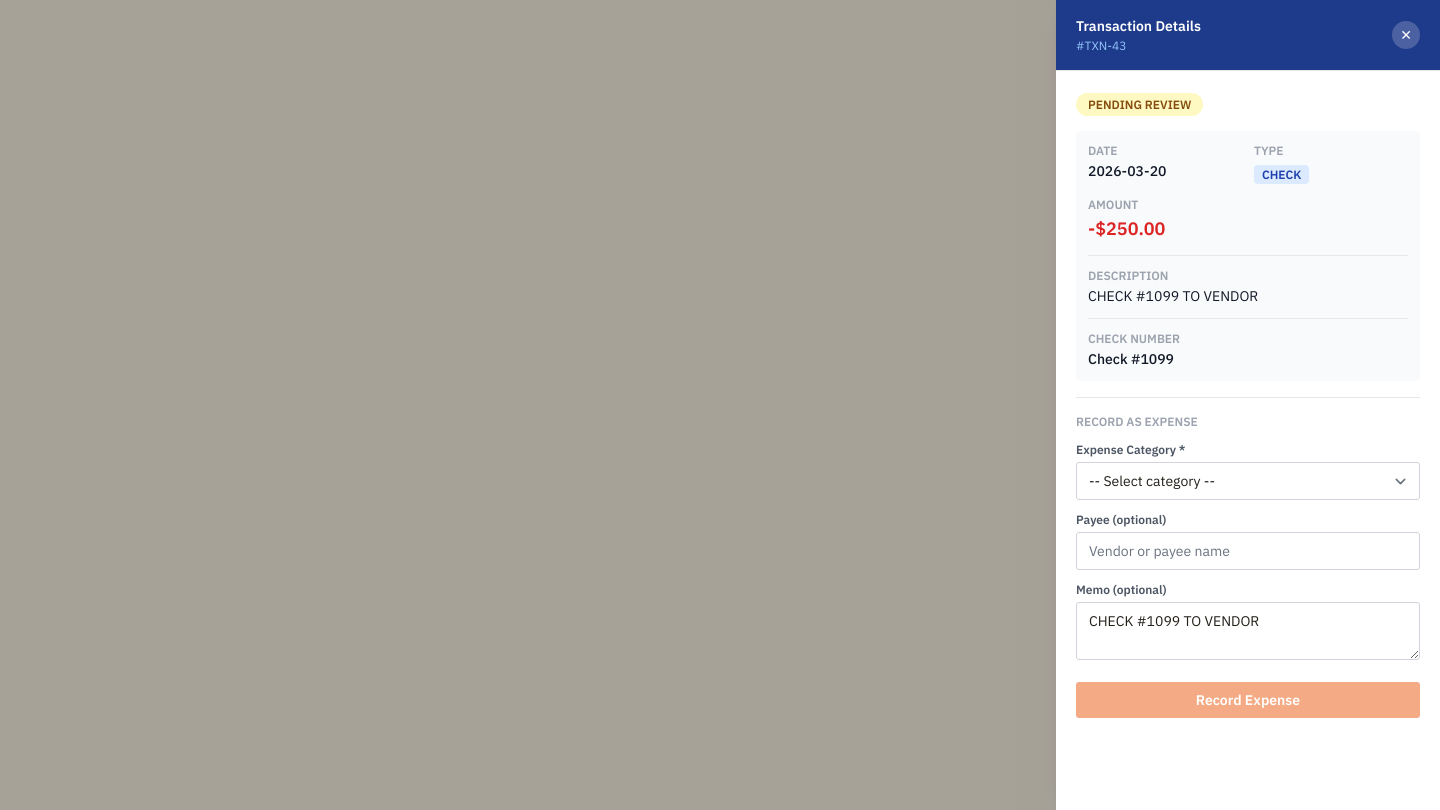
Test case: BankTransactionDetail — PENDING expense actions › shows error message when Record Expense fails
Select "Utilities" in the dropdown labelled "Expense Category *" at point(1248, 481), box 1076,462 -> 1420,500
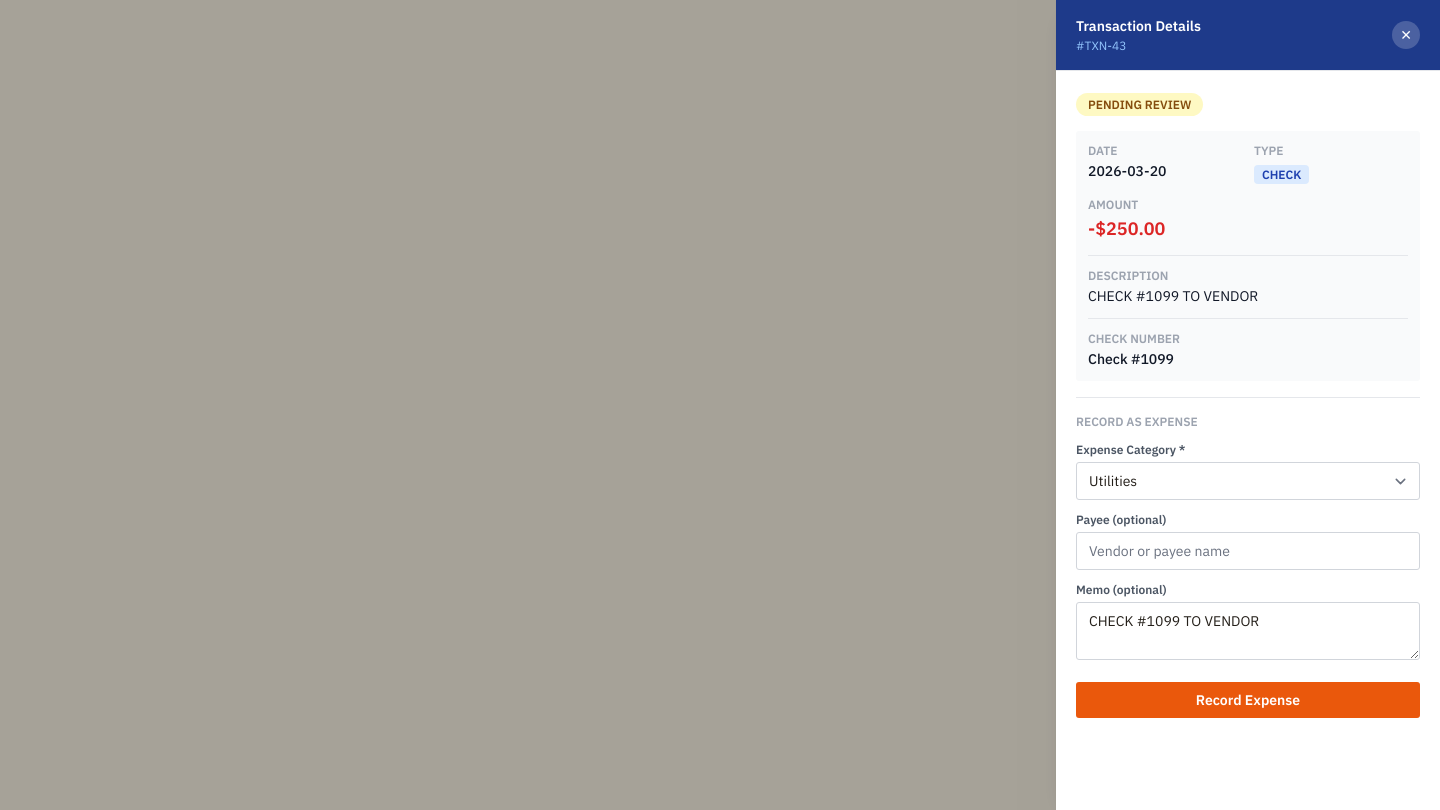
Click the button "Record Expense".
click(1248, 700)  # box 1076,682 -> 1420,718
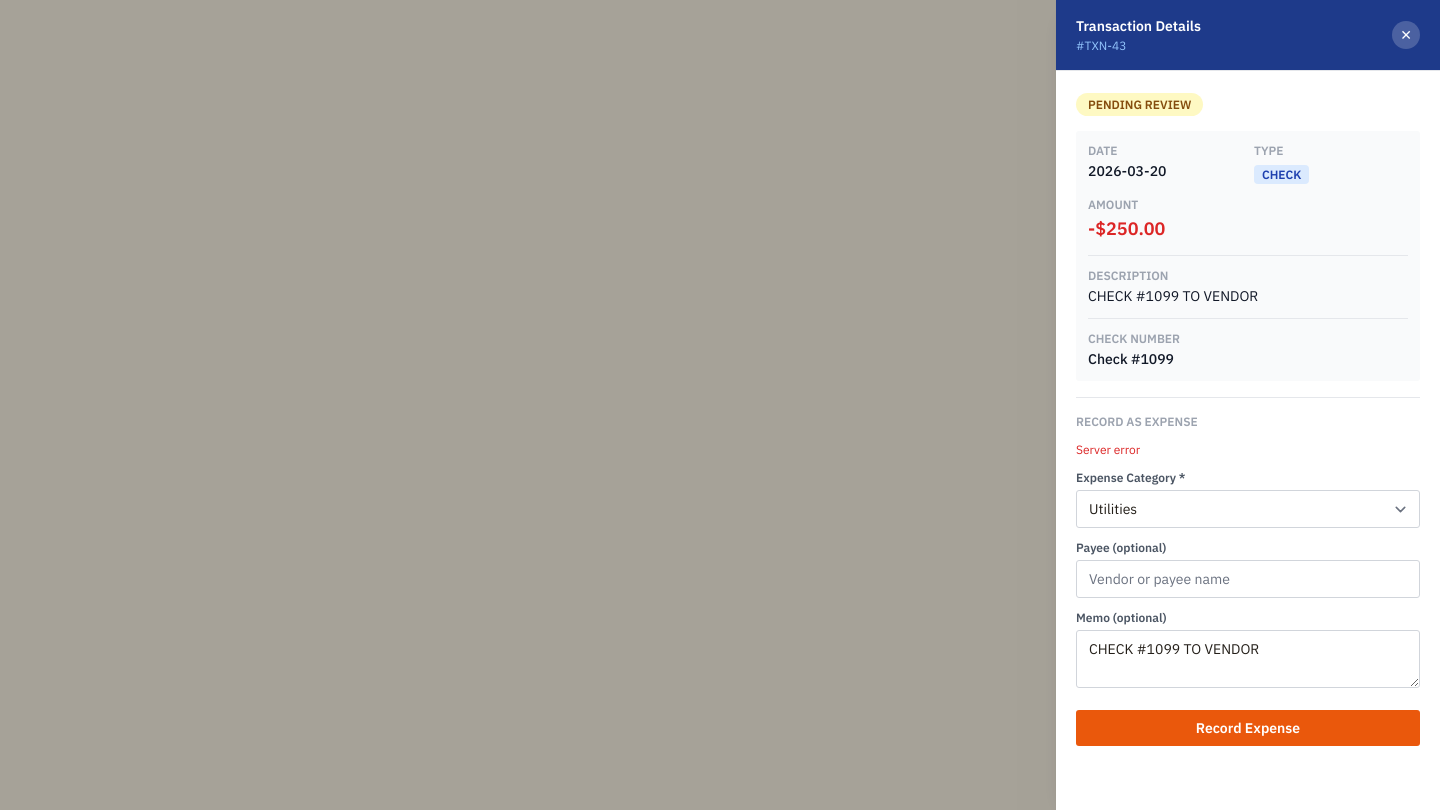
Expected: the text "Server error" is shown, 1076,442 -> 1140,457
